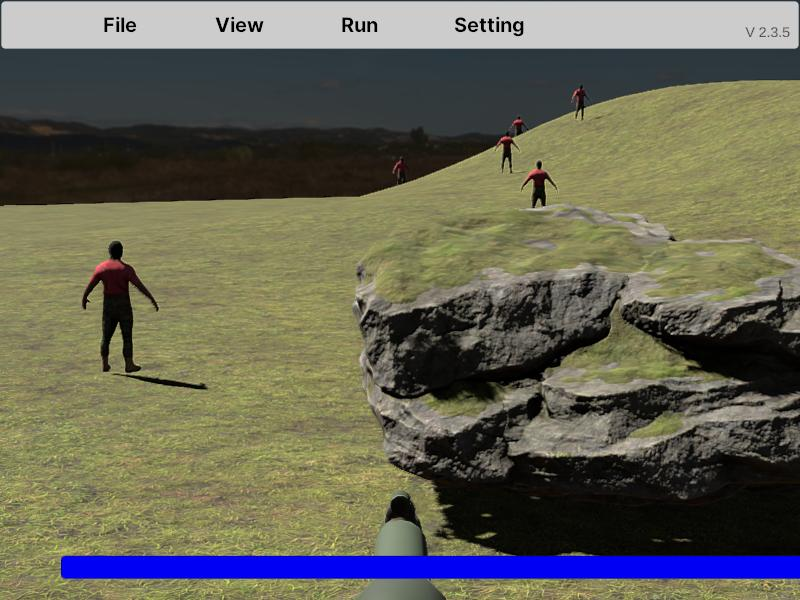Human: (81, 240, 159, 375), (521, 159, 557, 224)
